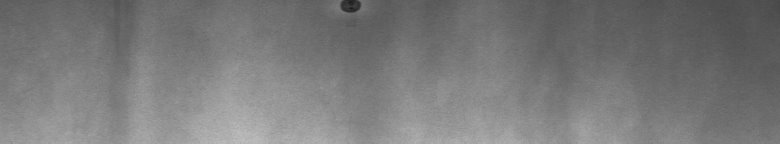fi: (333, 4, 368, 27)
